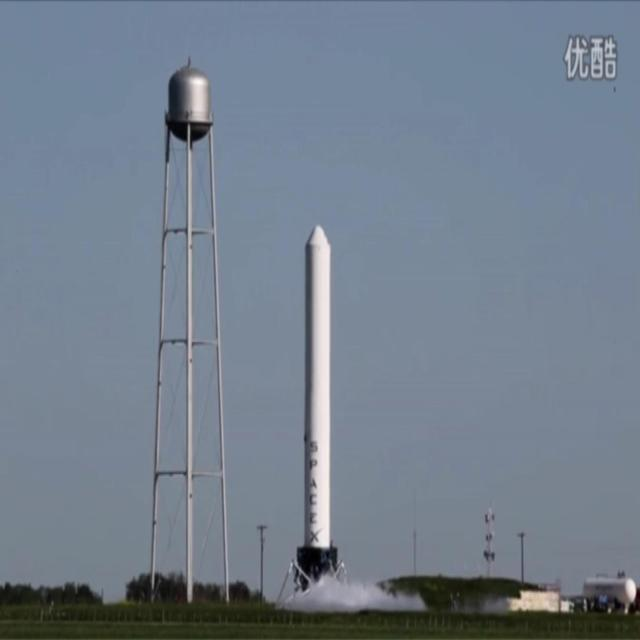Smoke: (296, 580, 422, 614), (384, 583, 427, 613)
